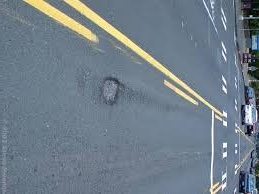pothole: (96, 78, 127, 110)
